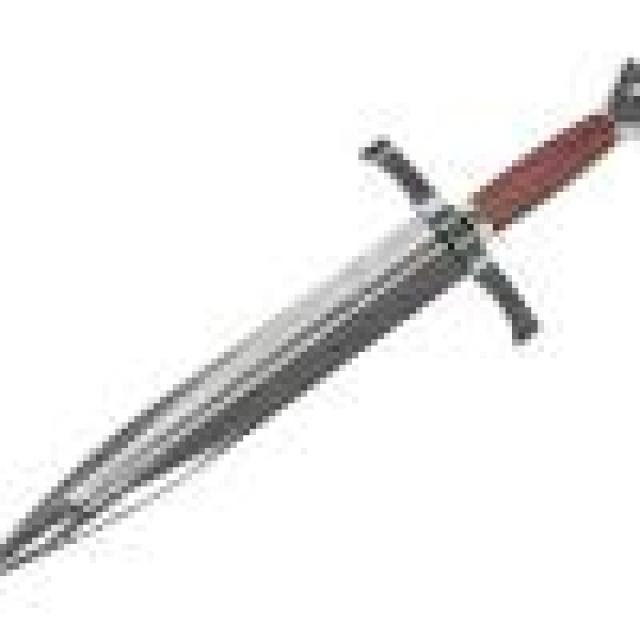Gun: (0, 34, 627, 592)
